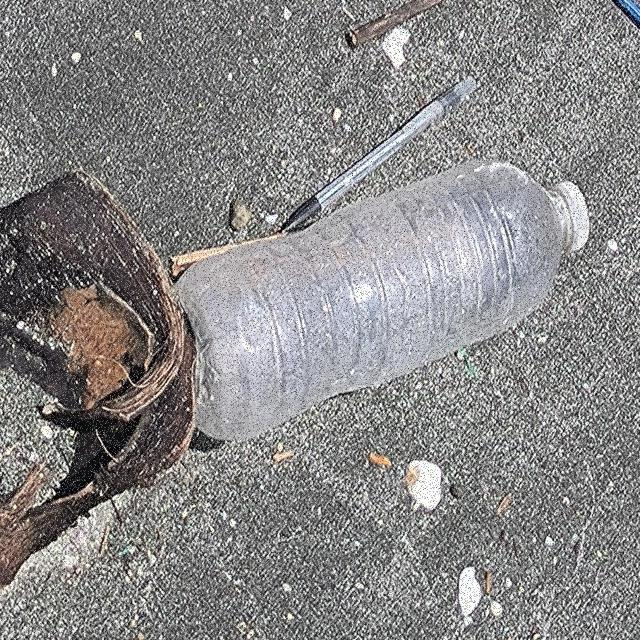plastic_waste: (174, 158, 593, 444)
